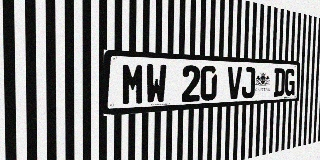0: (200, 66, 217, 101)
2: (182, 65, 200, 102)
D: (273, 68, 285, 97)
G: (284, 68, 295, 96)
J: (241, 67, 255, 99)
M: (121, 63, 145, 106)
V: (227, 66, 242, 99)
W: (145, 64, 167, 104)
